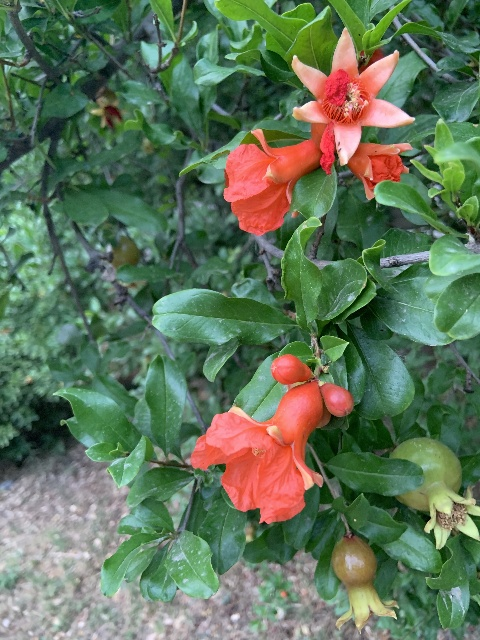bud: (270, 354, 310, 385), (320, 381, 353, 417)
early-fruit: (331, 534, 398, 632), (89, 89, 123, 129)
flower: (190, 380, 327, 524), (290, 26, 414, 174), (223, 130, 320, 235), (346, 141, 413, 198)
mid-growth: (390, 436, 480, 549), (107, 236, 145, 288)
